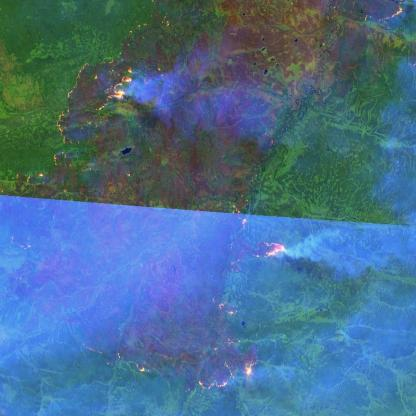fire: (52, 51, 139, 169), (195, 294, 260, 396), (225, 213, 293, 273), (79, 336, 151, 379)
